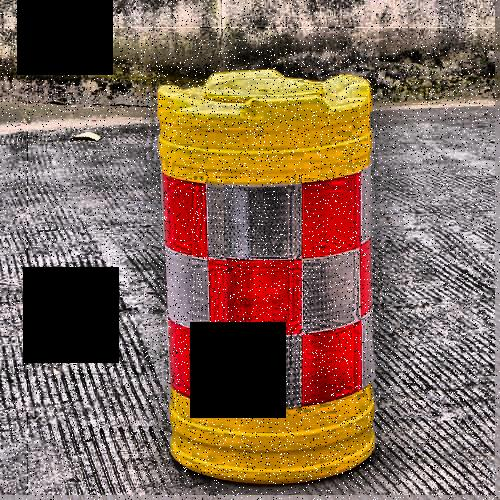bench: (141, 51, 387, 485)
